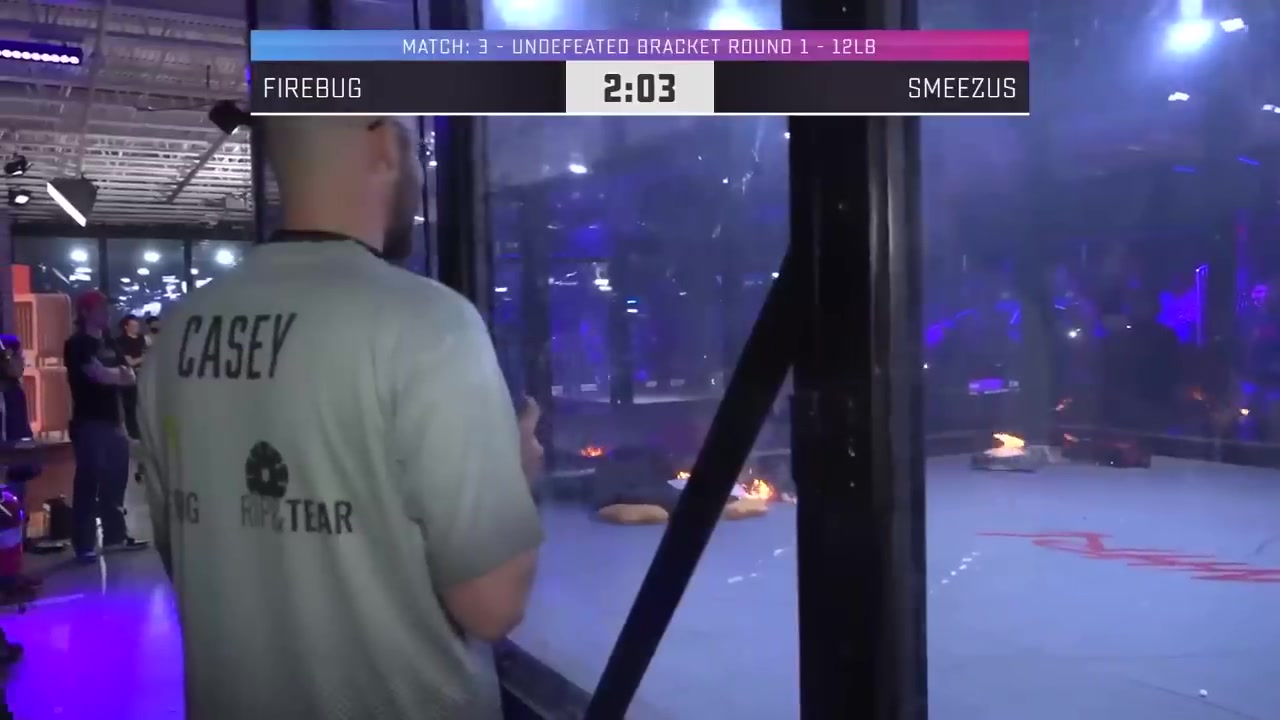combatbot: (1061, 432, 1151, 469), (971, 442, 1055, 472)
